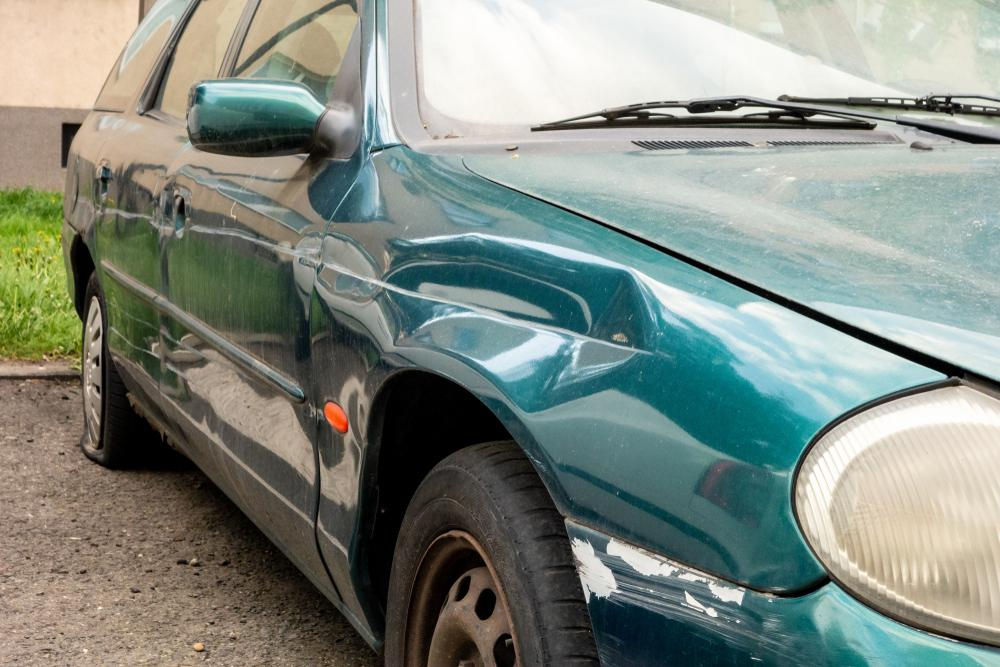dent: (320, 230, 649, 411)
scratch: (564, 519, 831, 667)
tire flat: (78, 272, 130, 467)
